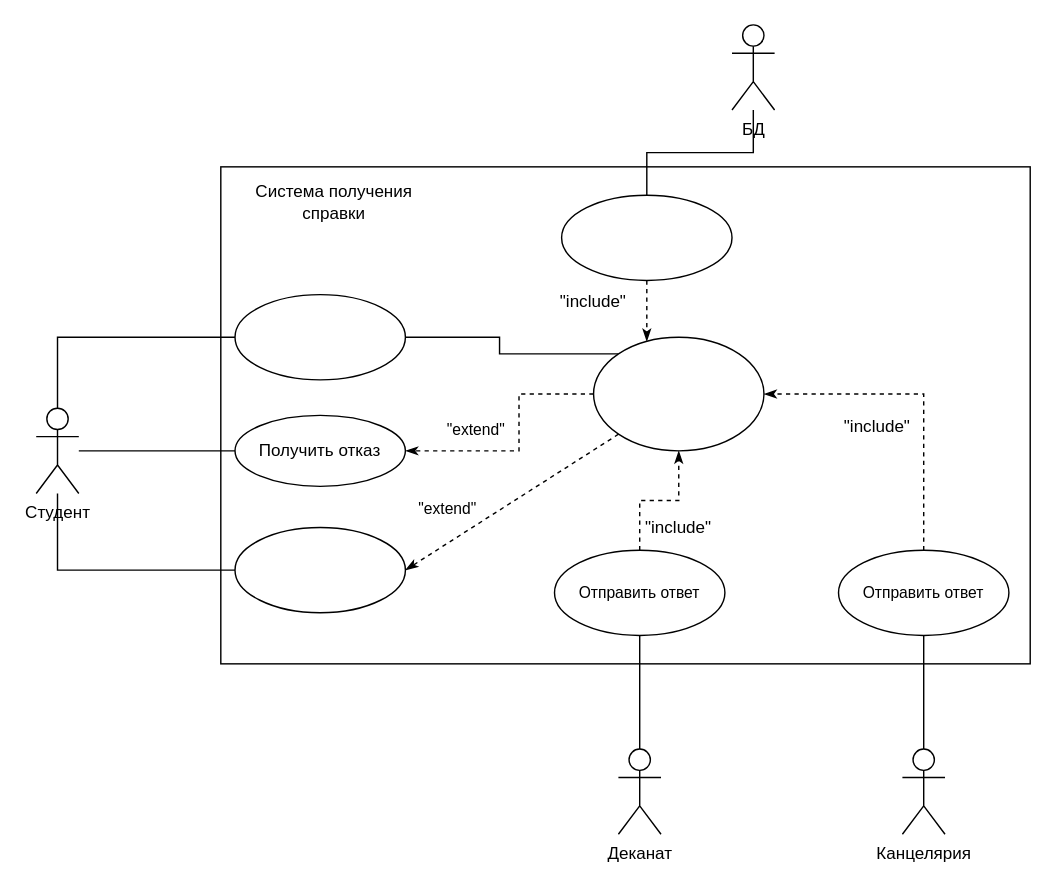
The diagram is 1055 pixels wide and 889 high, and some of its shapes have lost their labels. Here are the shapes that lost their labels. From the top down, the centre of each, then its label:
At [646,237]: "Оформление справки".
At [319,336]: "Отправить запрос".
At [678,393]: "Обработка запроса".
At [319,569]: "Получить справку".
